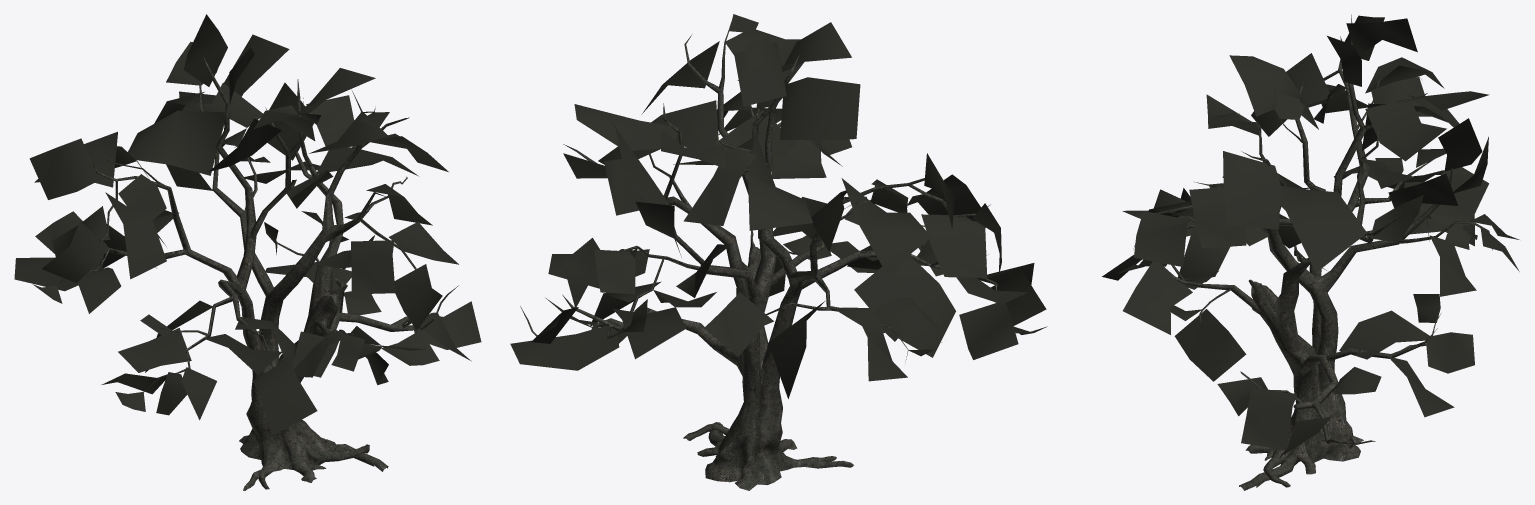
File: woodtreeBig.obj
The picture shows the model from 3 angles, left to right: view 1: azimuth 30°, elevation 25°; view 2: azimuth 150°, elevation 25°; view 3: azimuth 270°, elevation 25°; orthographic projection. The views are drawn at different scales.
Parts seen in each view (by area): view 1: woodtreeBig_models/props_foliage/oak_tree01; view 2: woodtreeBig_models/props_foliage/oak_tree01; view 3: woodtreeBig_models/props_foliage/oak_tree01.
Boxes of the visible parts, <box> form: woodtreeBig_models/props_foliage/oak_tree01: <box>14,14,481,490</box>; woodtreeBig_models/props_foliage/oak_tree01: <box>510,14,1047,490</box>; woodtreeBig_models/props_foliage/oak_tree01: <box>1102,14,1519,490</box>.
Bounding box in the file's own units: 18.5 × 17.45 × 16.58.
2 materials, 2 textured.
